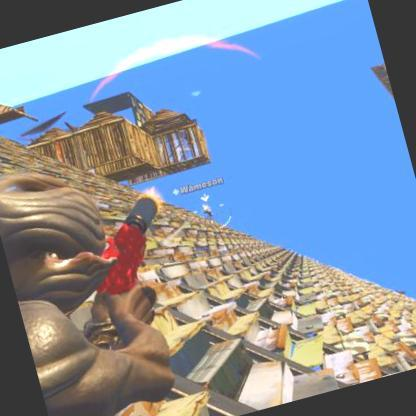person: (203, 201, 213, 219)
